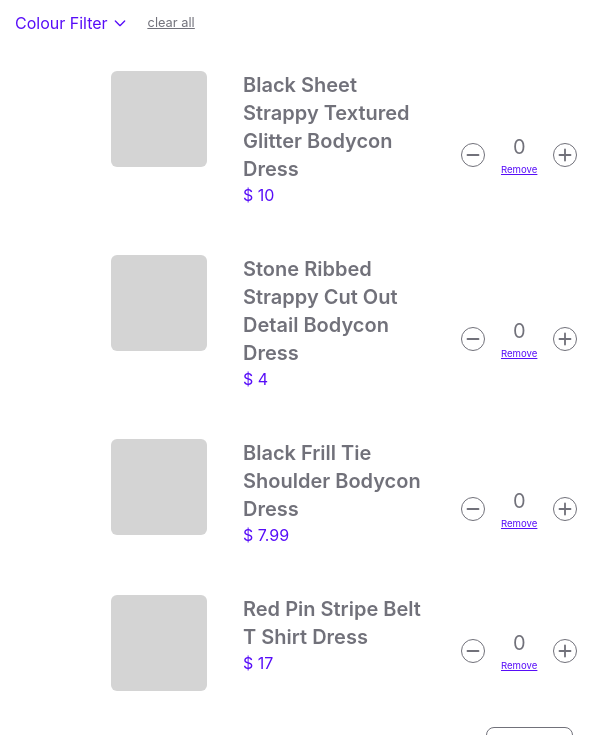
Scenario: Cart › Add to Cart
Click the element with test id "1-product-add" at [565, 155], box [553,143,577,167]
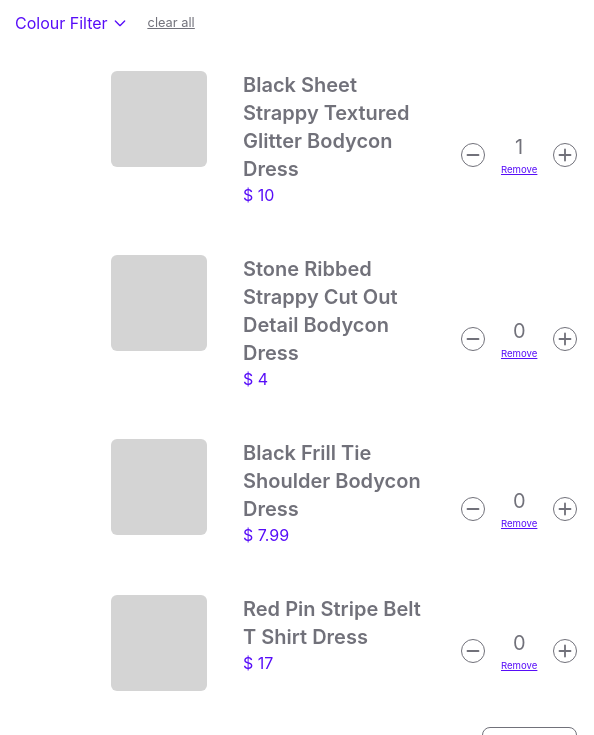
expect the heading with test id "1-product-qty" reads "1": met, box [515,134,523,158]
